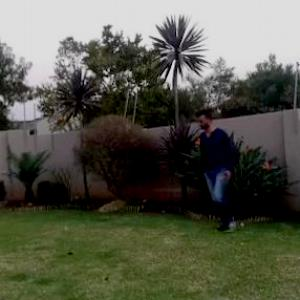follow: (200, 103, 237, 233)
